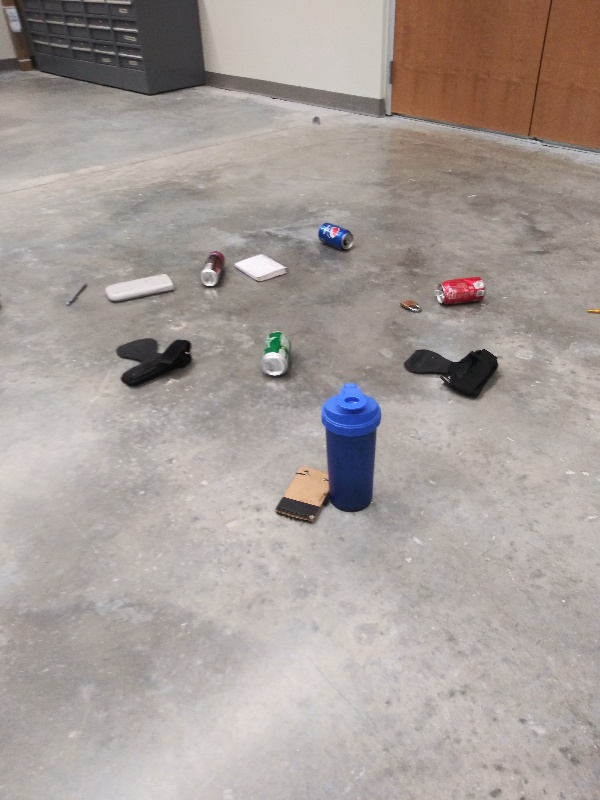can: (431, 276, 489, 310), (262, 326, 291, 375), (316, 221, 357, 254), (198, 247, 226, 291)
